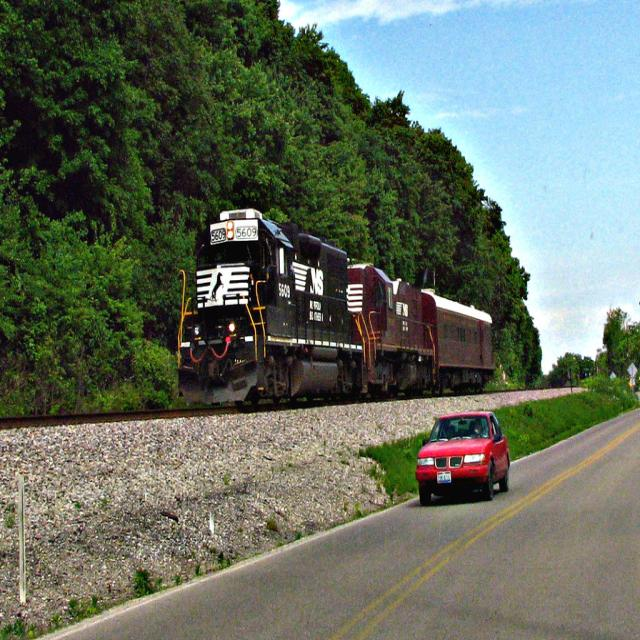car: (414, 409, 508, 501)
